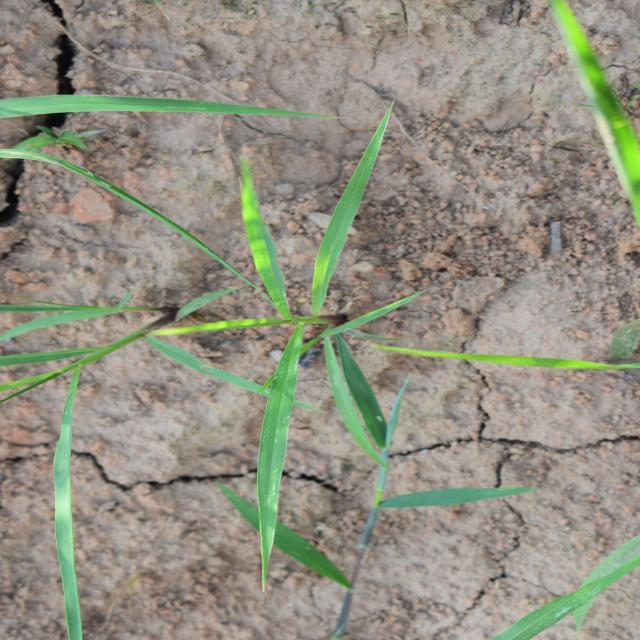green_foxtail: (63, 195, 490, 405)
